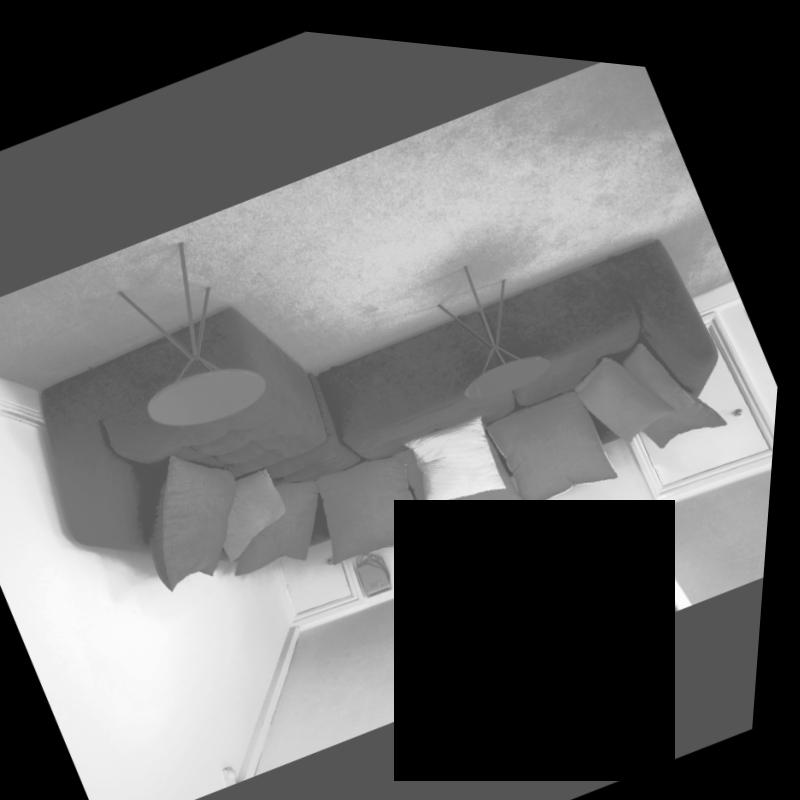pillow: (473, 354, 643, 519), (122, 421, 281, 595), (304, 425, 454, 574), (394, 401, 535, 540), (213, 455, 352, 587), (614, 307, 735, 442), (565, 319, 688, 445), (401, 395, 524, 515), (204, 454, 311, 563)
